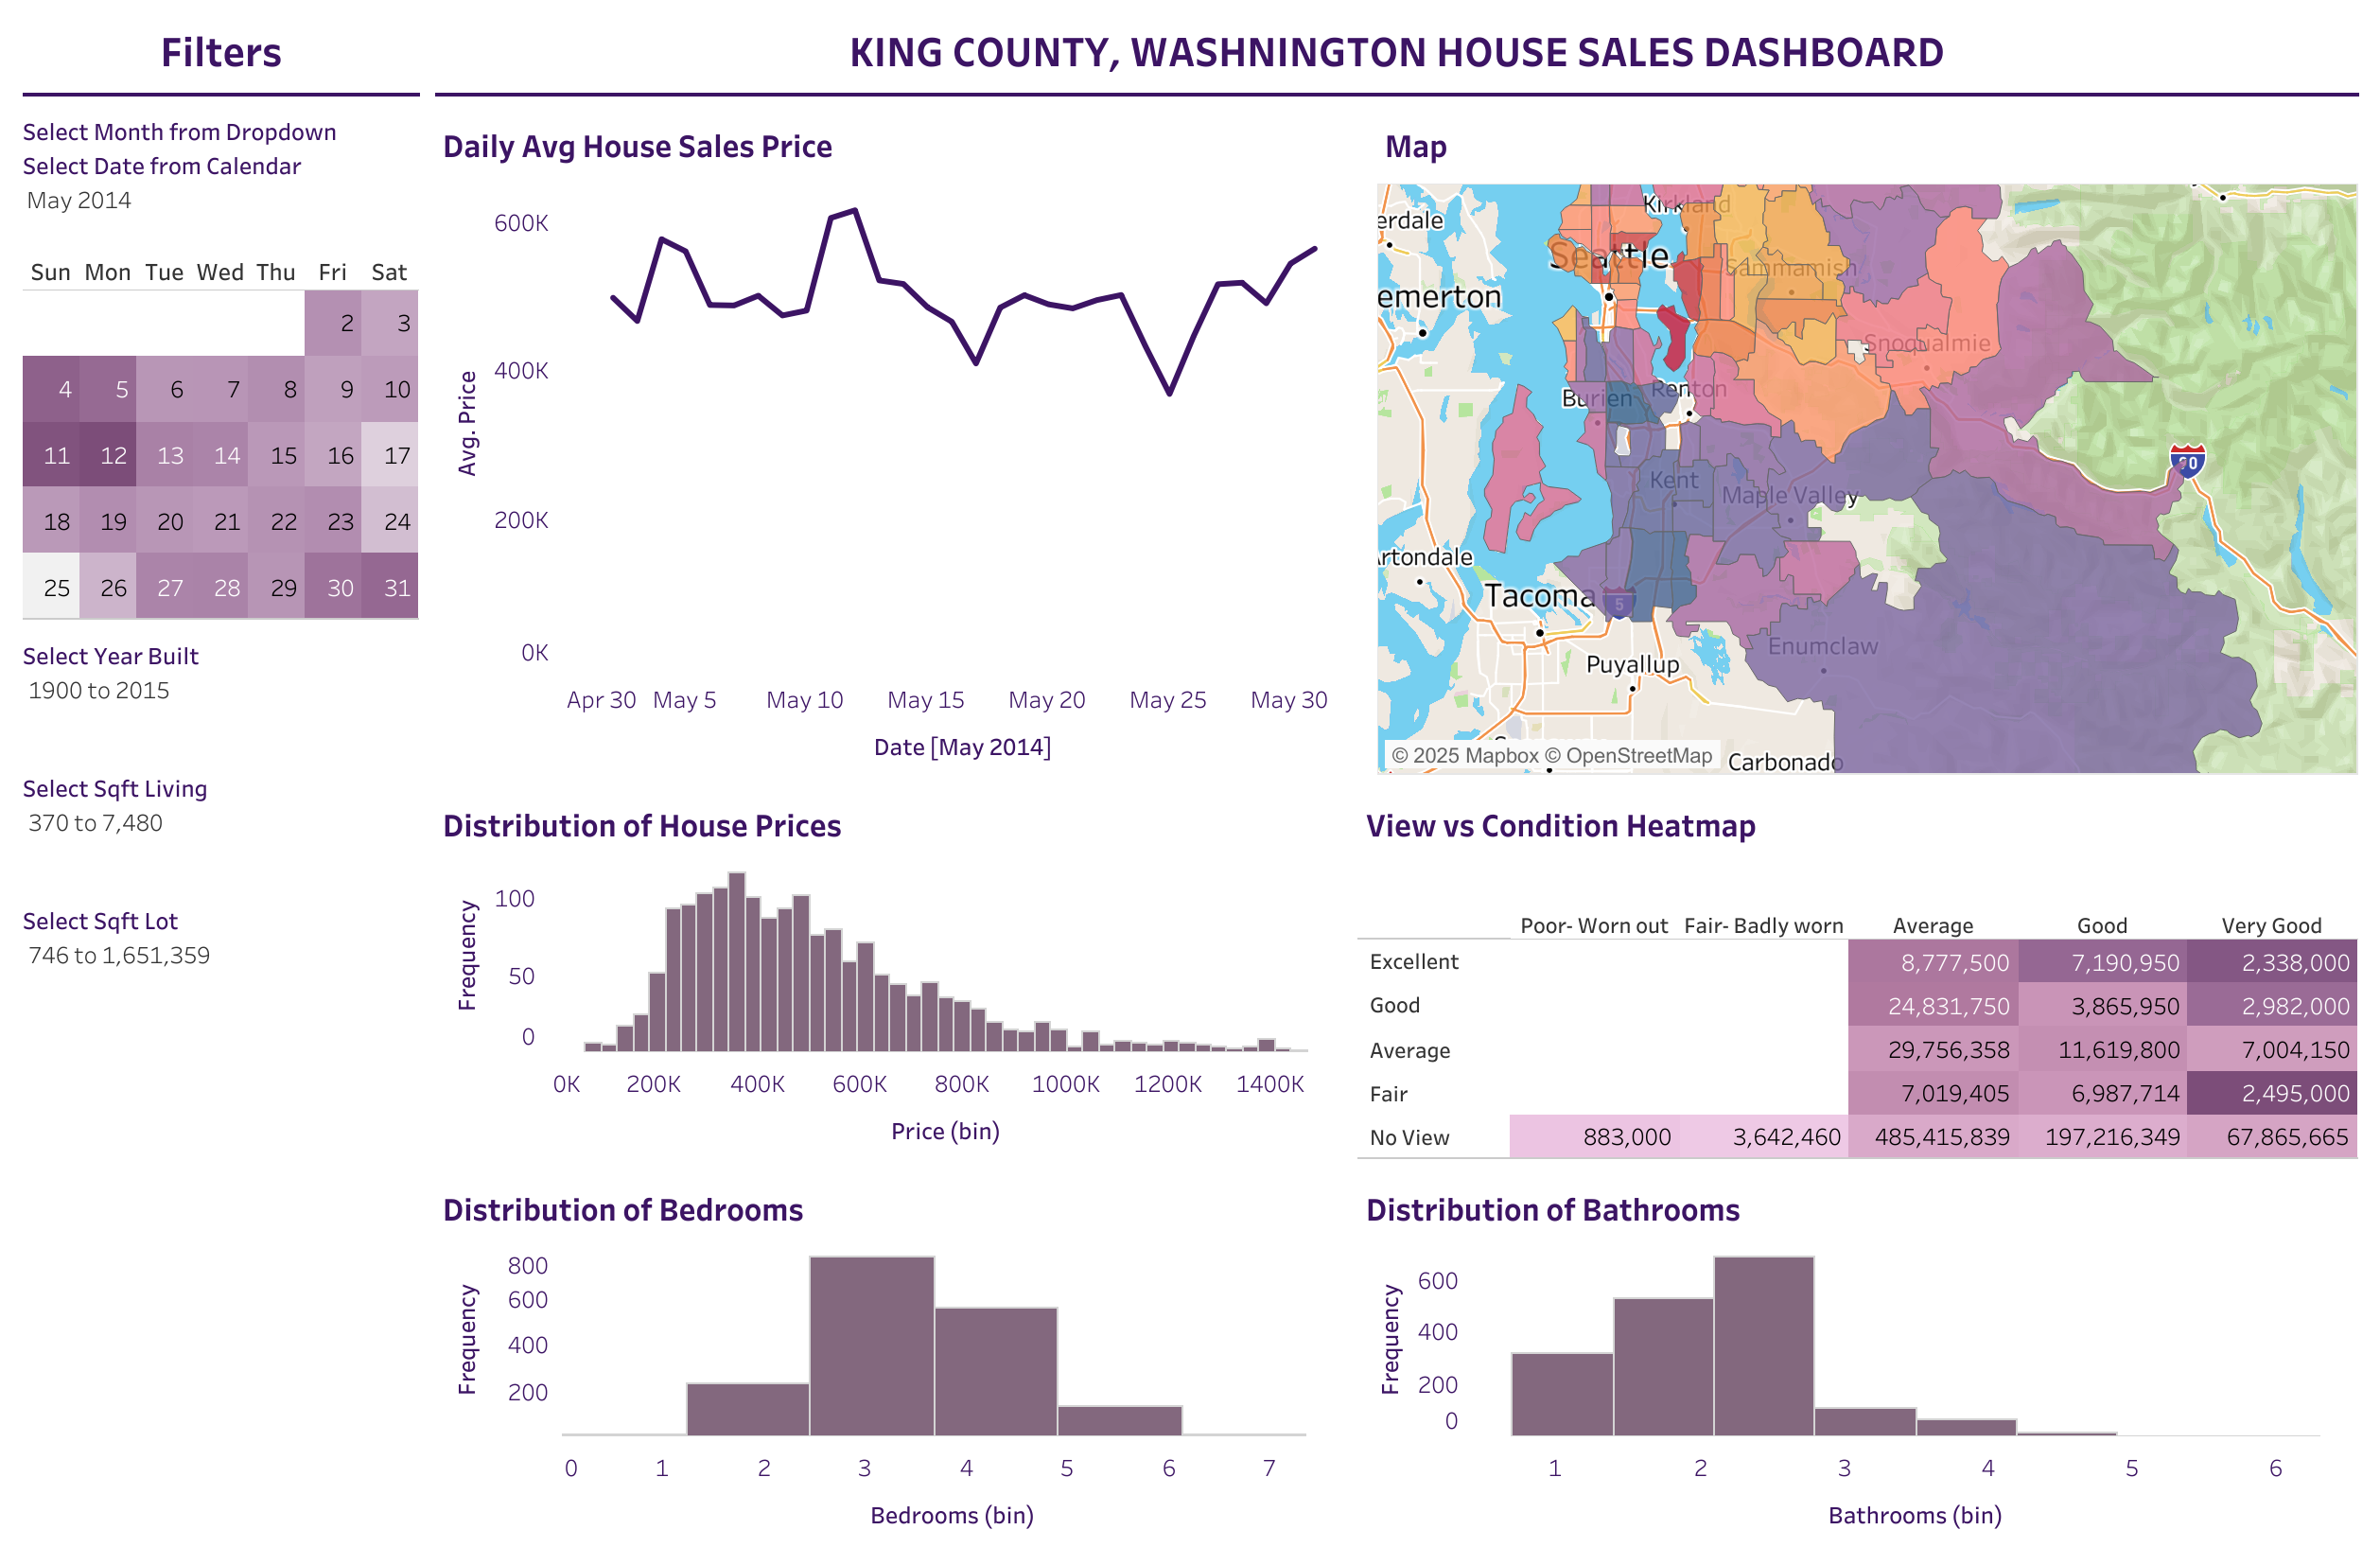

Layout of this report page (visuals, bound fields, positions):
{"tool":"tableau","page":{"name":"House Sales","canvas":[1000,1000],"units":"permille","ordinal":0},"visuals":[{"type":"text","box":[6.4,9.7,173.2,44.7]},{"type":"text","box":[179.5,9.7,814.1,44.7]},{"type":"blank","box":[6.4,54.3,173.2,12.1]},{"type":"blank","box":[179.5,54.3,814.1,12.1]},{"type":"filter","title":"Filters","param":"[federated.1107hlm1rdxc7611wz3t40j1bc0t].[my:date:ok]","box":[6.4,66.4,173.2,83.3]},{"type":"worksheet","title":"Line Chart","mark":"Automatic","rows":["price"],"cols":["date"],"box":[179.5,66.4,395.8,433.6]},{"type":"worksheet","title":"Map","mark":"Automatic","box":[575.3,66.4,418.4,433.6]},{"type":"worksheet","title":"Filters","mark":"Square","rows":["date"],"cols":["date"],"box":[6.4,149.8,173.2,245.2]},{"type":"filter","title":"Filters","param":"[federated.1107hlm1rdxc7611wz3t40j1bc0t].[none:yr_built:qk]","box":[6.4,394.9,173.2,83.3]},{"type":"filter","title":"Filters","param":"[federated.1107hlm1rdxc7611wz3t40j1bc0t].[none:sqft_living:qk]","box":[6.4,478.2,173.2,83.3]},{"type":"worksheet","title":"Histogram of House Prices","mark":"Automatic","rows":["price"],"cols":["Price (bin)"],"box":[179.5,500,387.6,245.2]},{"type":"worksheet","title":"Heatmap","mark":"Square","rows":["view"],"cols":["condition"],"box":[567.1,500,426.5,245.2]},{"type":"filter","title":"Filters","param":"[federated.1107hlm1rdxc7611wz3t40j1bc0t].[none:sqft_lot:qk]","box":[6.4,561.6,173.2,83.3]},{"type":"worksheet","title":"Histogram of Bedrooms","mark":"Automatic","rows":["bedrooms"],"cols":["Bedrooms (bin)"],"box":[179.5,745.2,387.6,245.2]},{"type":"worksheet","title":"Histogram of Bathrooms","mark":"Automatic","rows":["bathrooms"],"cols":["Bathrooms (bin)"],"box":[567.1,745.2,426.5,245.2]}]}

Visuals, with their boxes on the dashboard's canvas, which has no fixed pixel size, in thousandths of its width and height (x1, y1, x2, y2). These are canvas units, not pixel positions in the 2380x1565 screenshot, which may show the page scaled, cropped or inside an application window:
text: (6, 10, 180, 54)
text: (180, 10, 994, 54)
blank: (6, 54, 180, 66)
blank: (180, 54, 994, 66)
"Filters" filter: (6, 66, 180, 150)
"Line Chart" worksheet: (180, 66, 575, 500)
"Map" worksheet: (575, 66, 994, 500)
"Filters" worksheet (Square marks): (6, 150, 180, 395)
"Filters" filter: (6, 395, 180, 478)
"Filters" filter: (6, 478, 180, 562)
"Histogram of House Prices" worksheet: (180, 500, 567, 745)
"Heatmap" worksheet (Square marks): (567, 500, 994, 745)
"Filters" filter: (6, 562, 180, 645)
"Histogram of Bedrooms" worksheet: (180, 745, 567, 990)
"Histogram of Bathrooms" worksheet: (567, 745, 994, 990)
